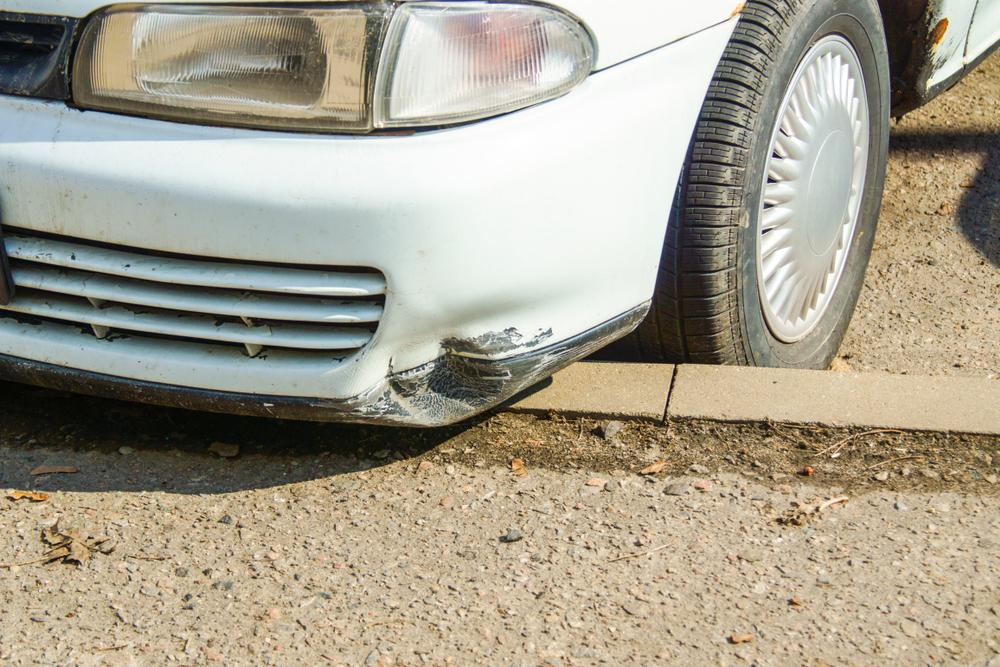dent: (357, 286, 552, 424)
